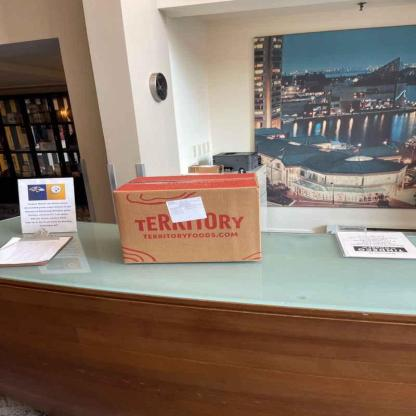label: (167, 196, 208, 223)
package: (113, 173, 262, 263)
